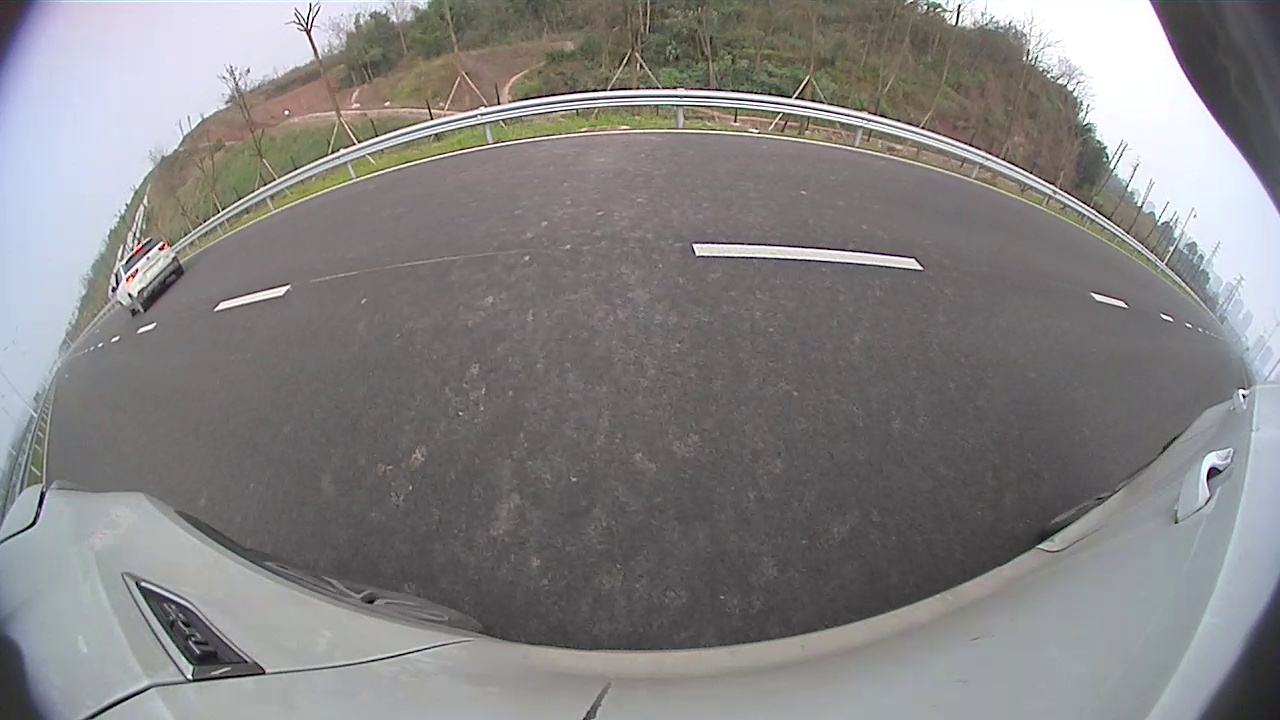car: (518, 153, 583, 198)
rear: (561, 175, 571, 194)
